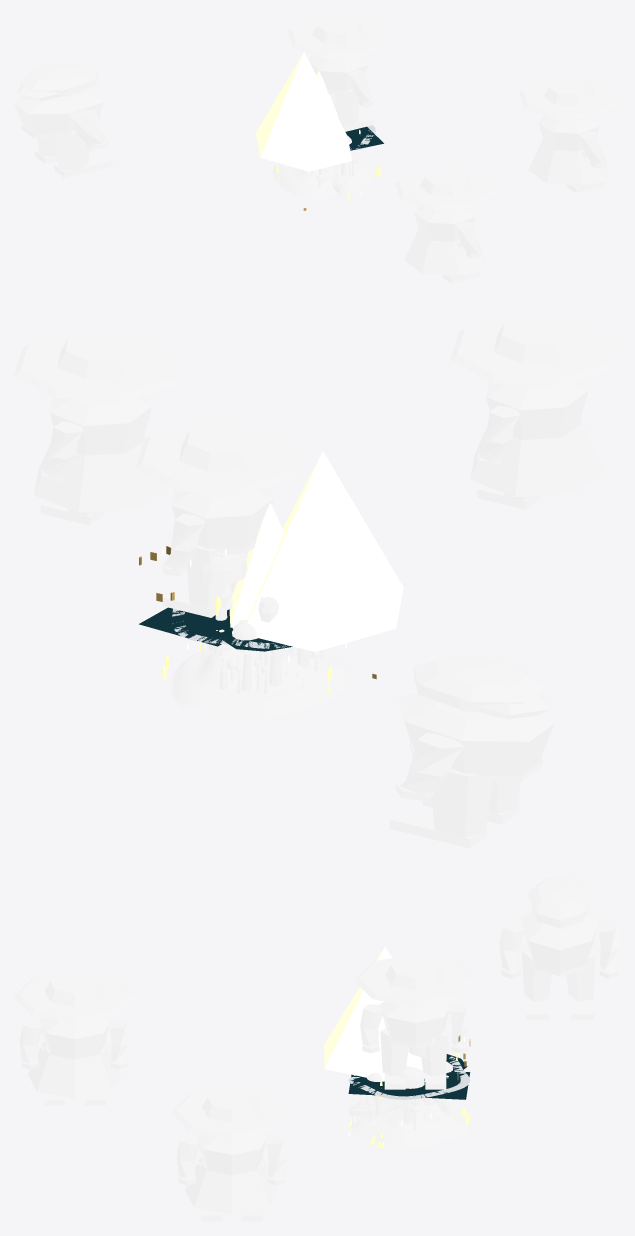
Rendered from ile-champignons-v5.glb.
The picture shows the model from 3 angles, top to bottom: view 1: azimuth 30°, elevation 25°; view 2: azimuth 150°, elevation 25°; view 3: azimuth 270°, elevation 25°; orthographic projection. The views are drawn at different scales.
Parts seen in each view (by area): view 1: ile_anime2.009, ile_copie0.005, ile_anime0.009, ile_libre0.007, ile_anime1.009, ile_corps.009, ile_libre1.003; view 2: ile_anime2.009, ile_anime0.009, ile_copie0.005, ile_libre0.007, ile_anime1.009, ile_corps.009, ile_libre1.003; view 3: ile_copie0.005, ile_anime0.009, ile_anime1.009, ile_anime2.009, ile_corps.009, ile_libre0.007, ile_libre1.003.
Part boxes in pixels (x1,y1,x2,y2): ile_anime2.009: (14,62,112,177); ile_copie0.005: (519,75,620,193); ile_anime0.009: (395,166,496,283); ile_libre0.007: (256,52,351,171); ile_anime1.009: (287,14,389,131); ile_corps.009: (272,94,375,199); ile_libre1.003: (345,125,383,150); ile_anime2.009: (389,654,554,848); ile_anime0.009: (450,312,620,509); ile_copie0.005: (14,328,184,525); ile_libre0.007: (229,451,403,651); ile_anime1.009: (136,420,306,617); ile_corps.009: (170,552,355,720); ile_libre1.003: (139,588,292,651); ile_copie0.005: (171,1086,292,1221); ile_anime0.009: (14,970,135,1105); ile_anime1.009: (355,954,475,1089); ile_anime2.009: (499,877,620,1020); ile_corps.009: (348,1037,470,1148); ile_libre0.007: (324,947,424,1081); ile_libre1.003: (348,1054,470,1099).
Size of the model in its own units: 10.02 by 3.13 by 9.98.
